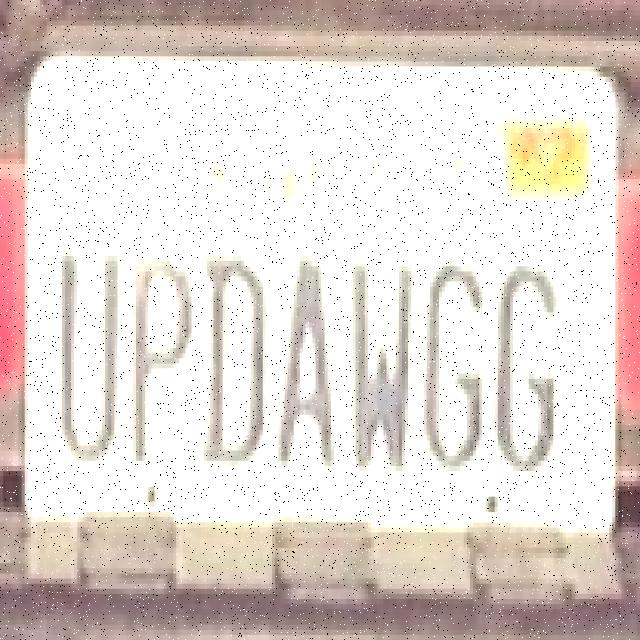licenseplate: (19, 46, 625, 560)
